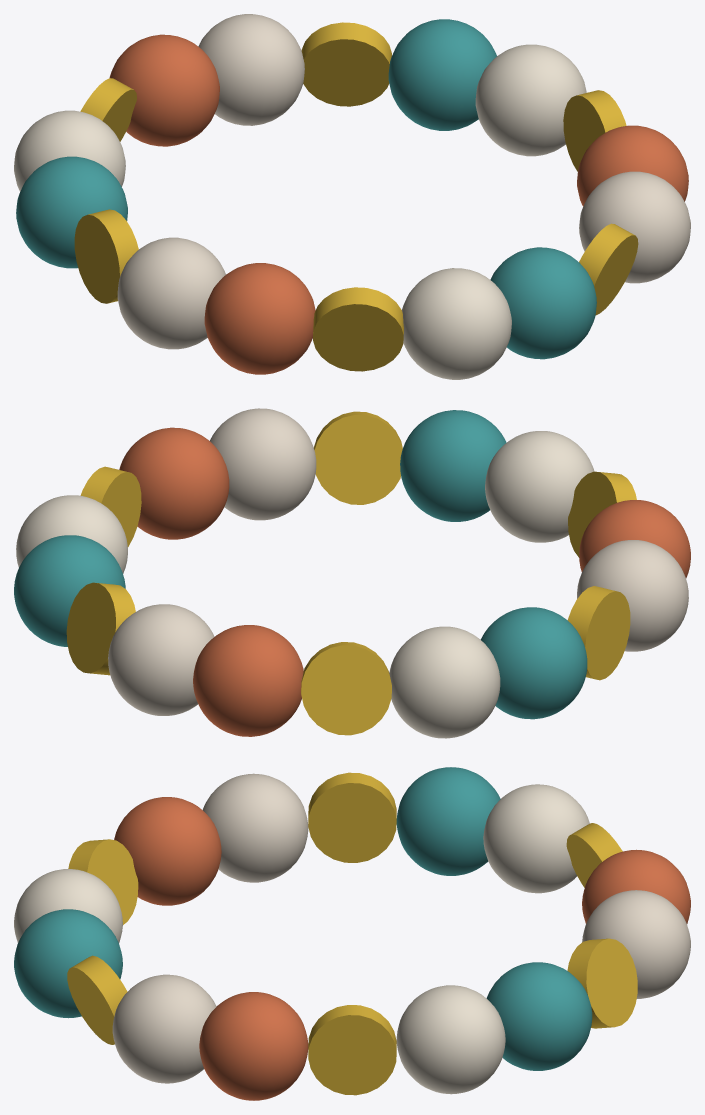
The model's file is beaded_bracelet.glb.
3 renders of one model, top to bottom at view 1: azimuth 30°, elevation 25°; view 2: azimuth 150°, elevation 25°; view 3: azimuth 270°, elevation 25°, orthographic. The views are drawn at different scales.
Bounding box in the file's own units: 1.55 × 0.322 × 1.68.
